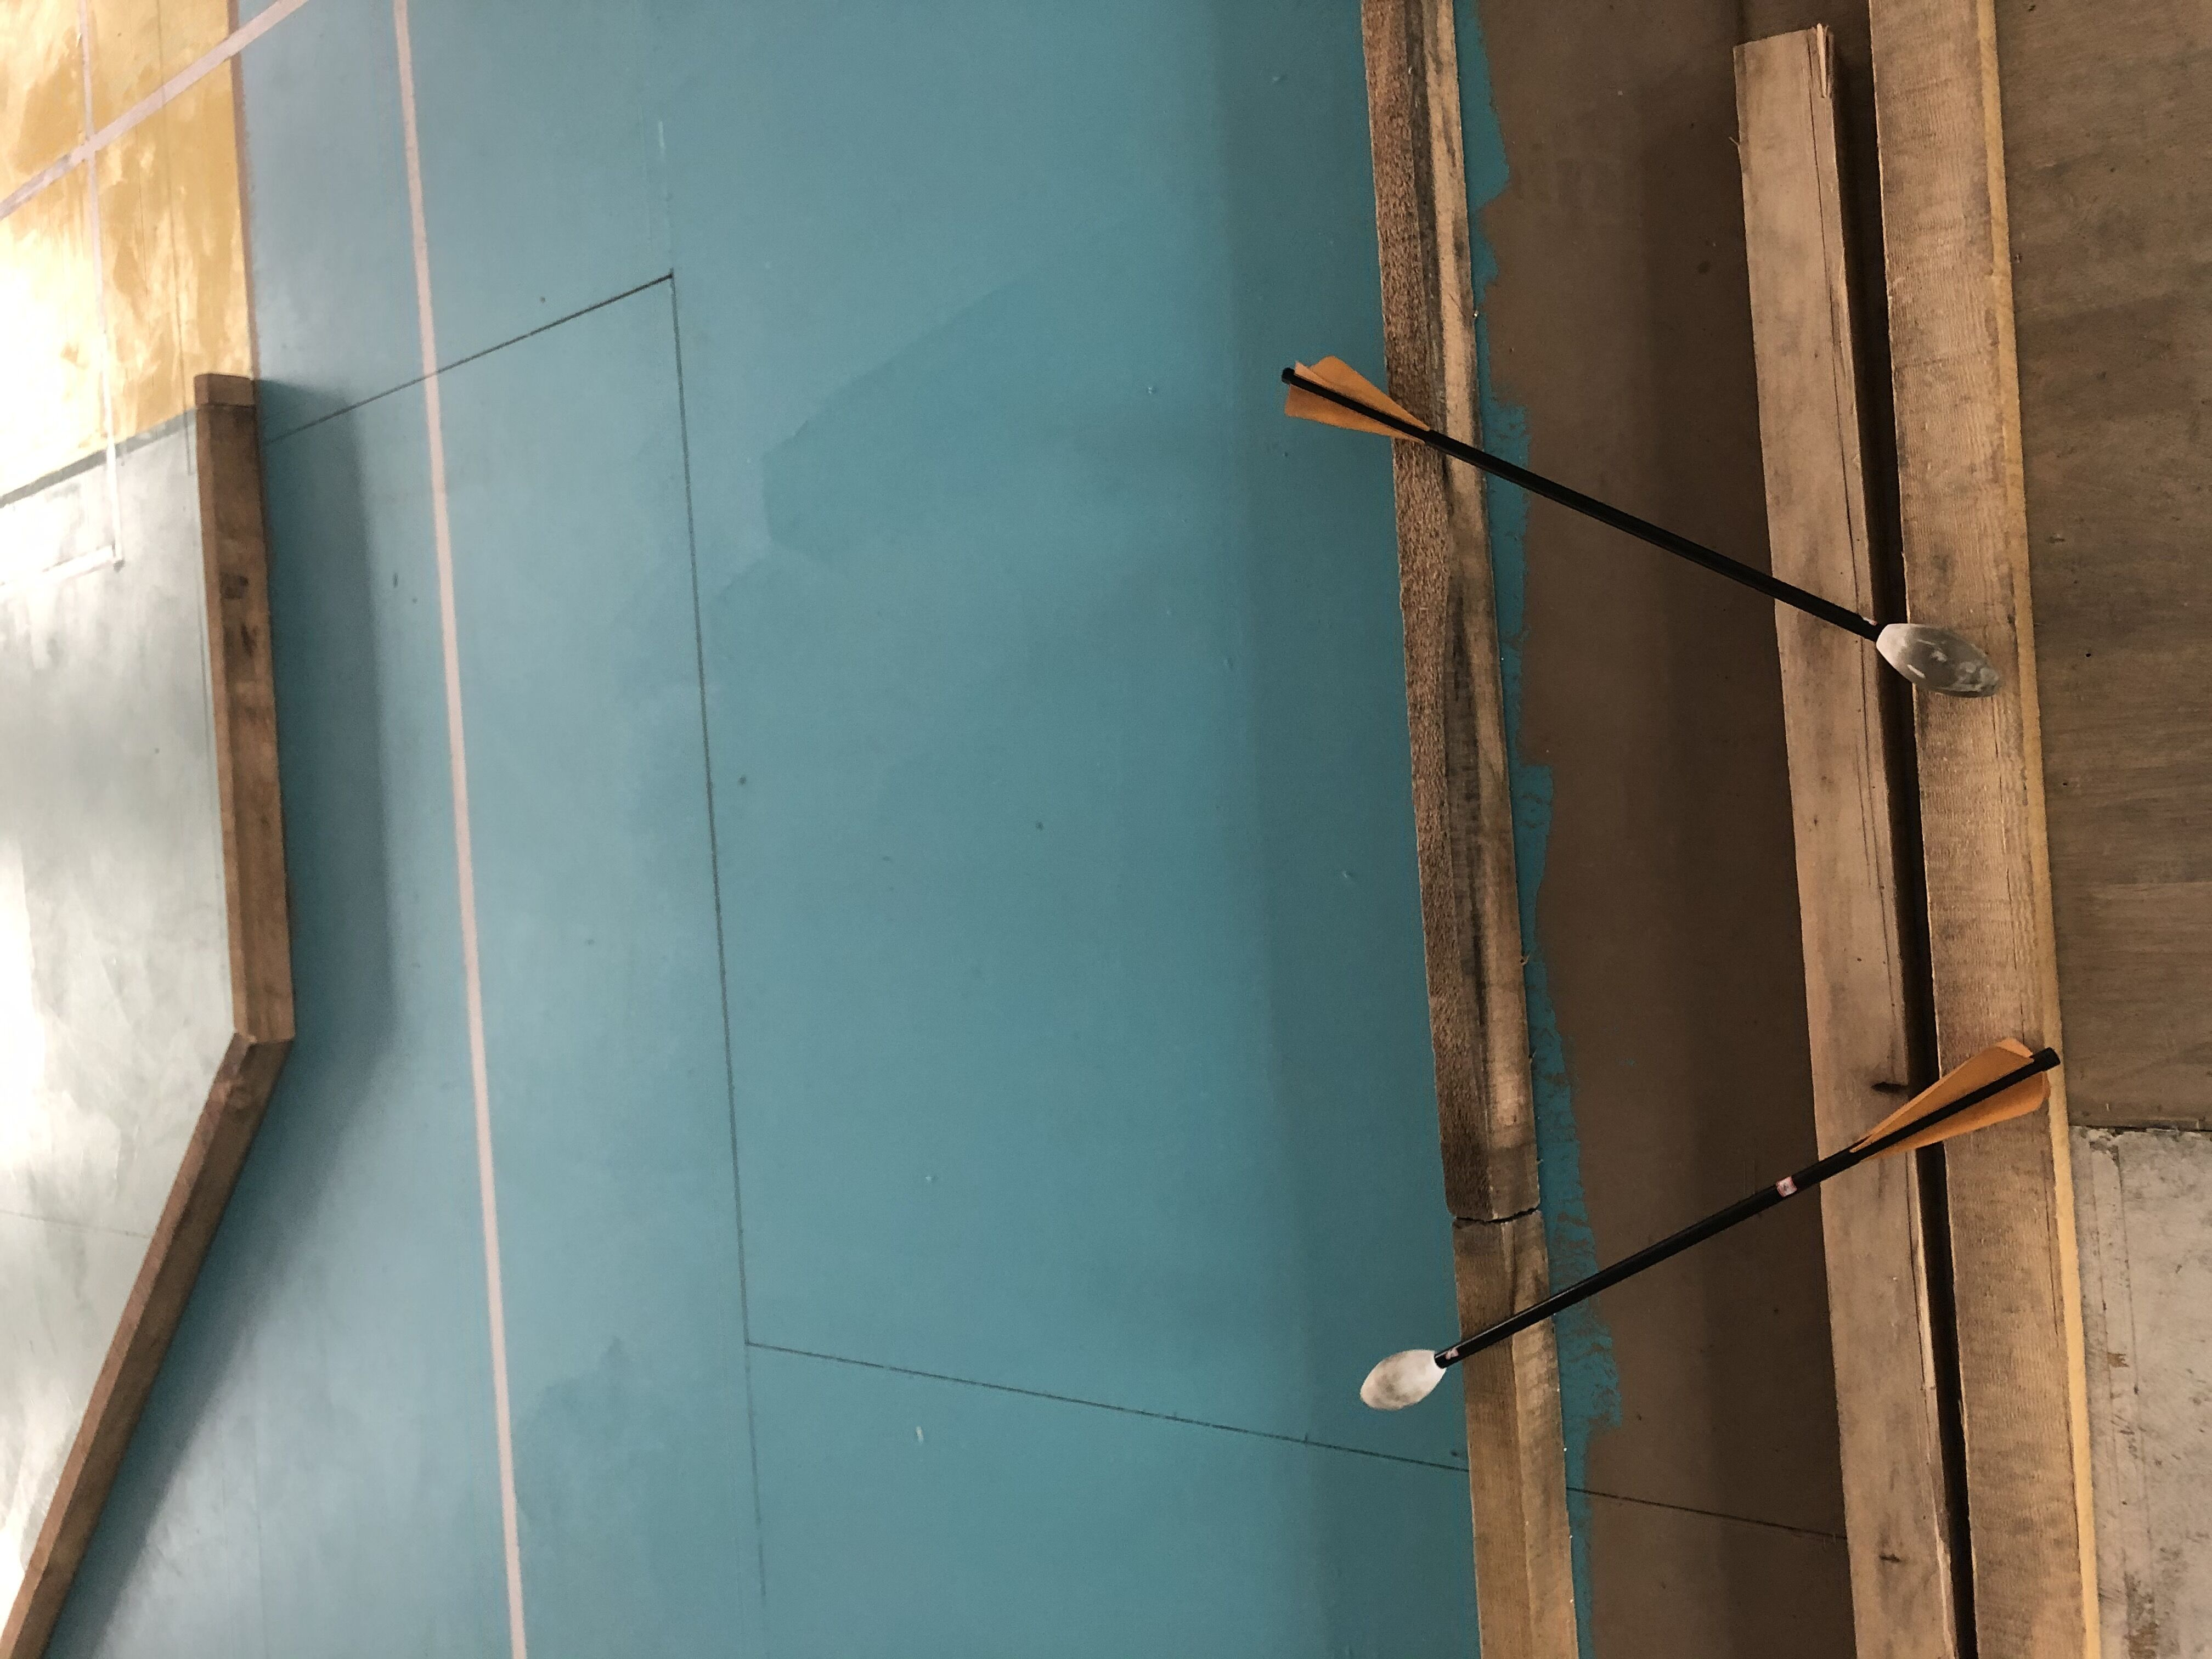arrow: (1355, 1037, 2062, 1415), (1284, 357, 2000, 699)
arrowFront: (1871, 620, 2005, 697), (1353, 1342, 1449, 1413)
